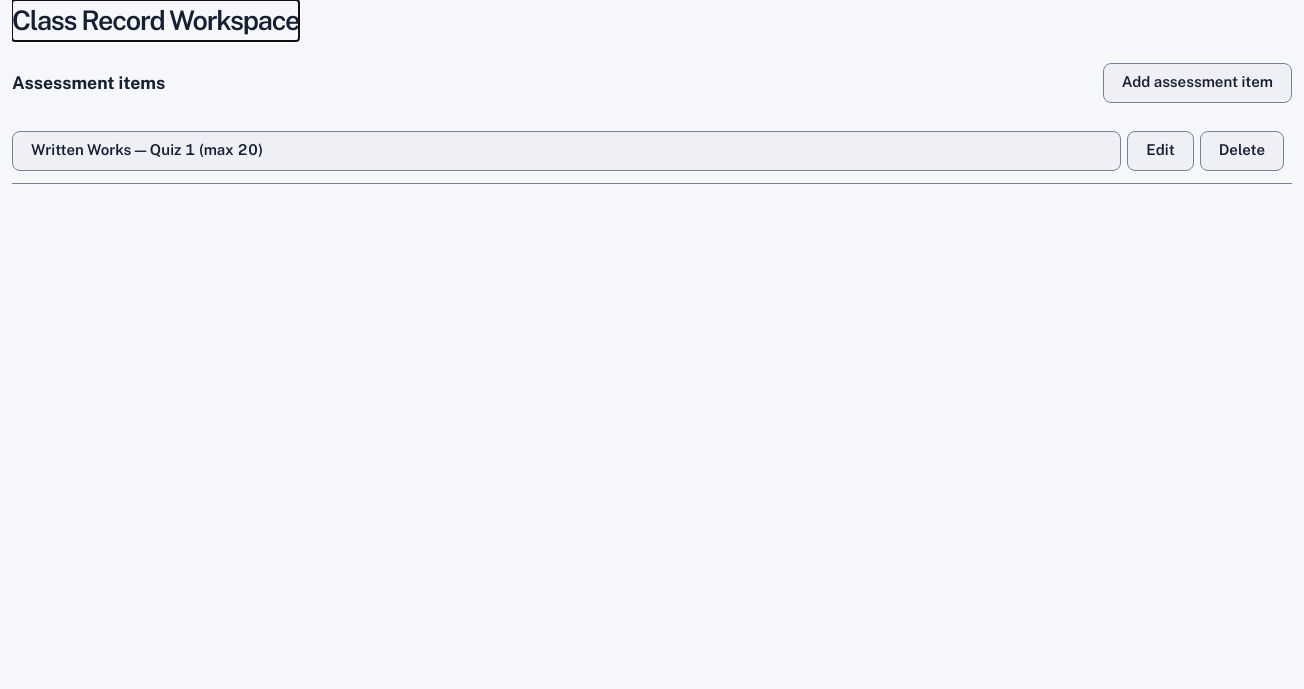
Test: ClassRecordWorkspace › updates assessment completion and protection after the first saved score
The width and height of the screenshot is (1304, 689).
Click the button "Written Works — Quiz 1 (max 20)" at (81, 150), box [12, 131, 1121, 171]
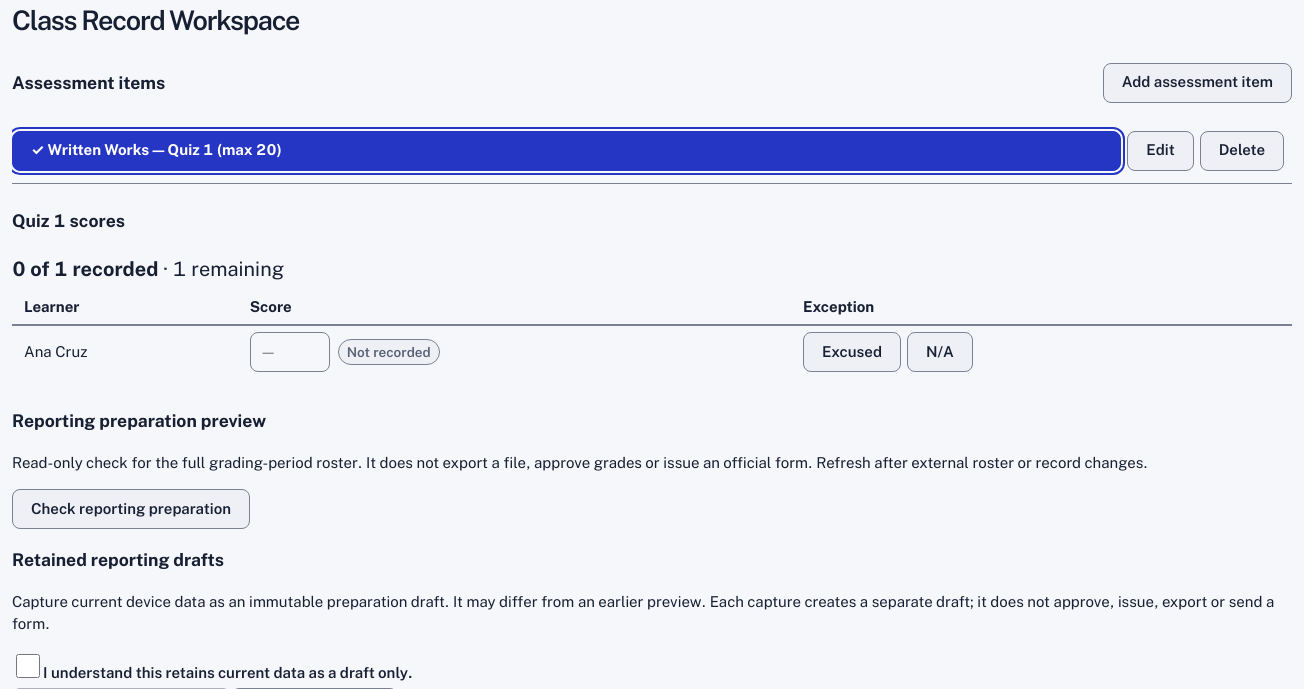
Type "18" into the number field named "Score for Ana Cruz" at (290, 352), box [250, 332, 330, 372]
Then press Enter
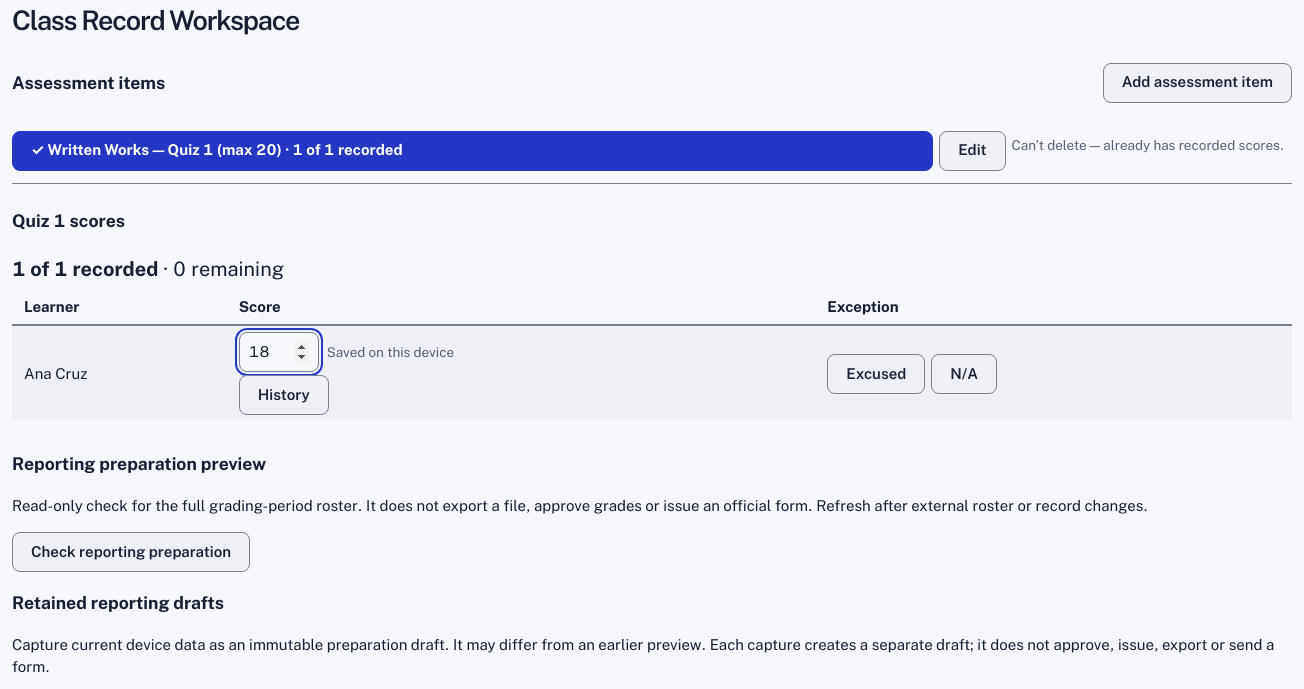
Check: the button "Written Works — Quiz 1 (max 20) · 1 of 1 recorded" is shown, box [12, 131, 933, 171]
Check: the text "Can’t delete — already has recorded scores." is shown, box [1012, 137, 1284, 153]
